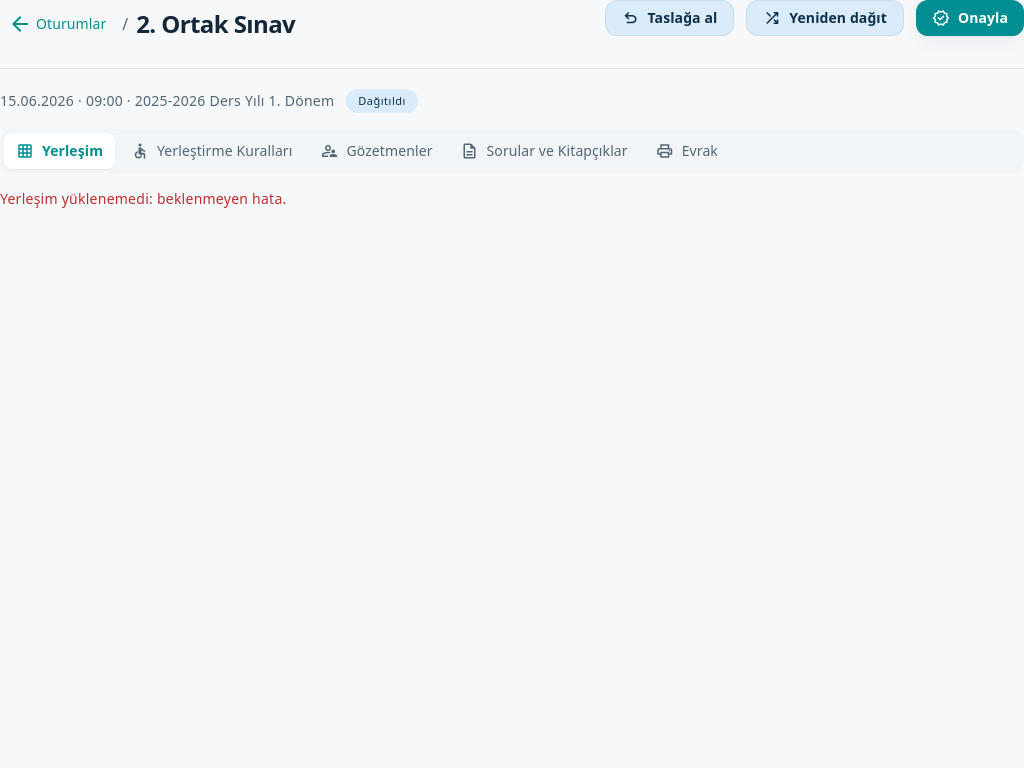
it: OturumDetayPage › DAĞITILDI: yeniden dağıtım ihlalli dönerse sonuç 'onaylanamaz' der
Click the button "Yeniden dağıt" at (825, 18), box [746,0,904,36]
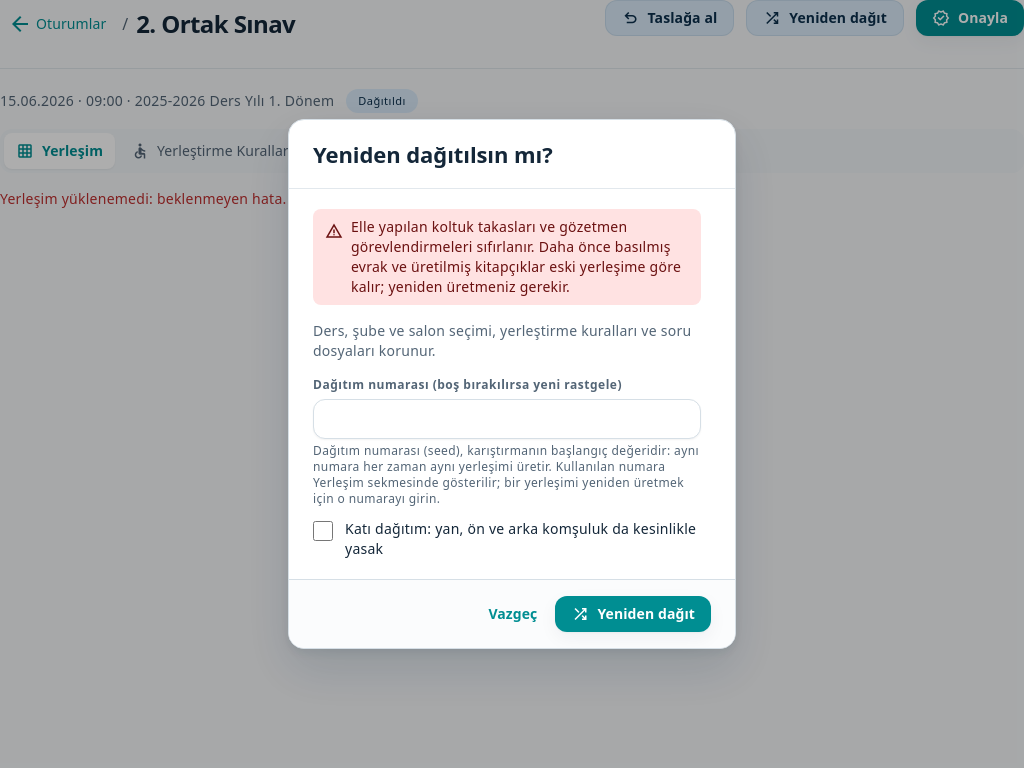
Click the button "Yeniden dağıt" at (633, 614), box [555,596,711,632]
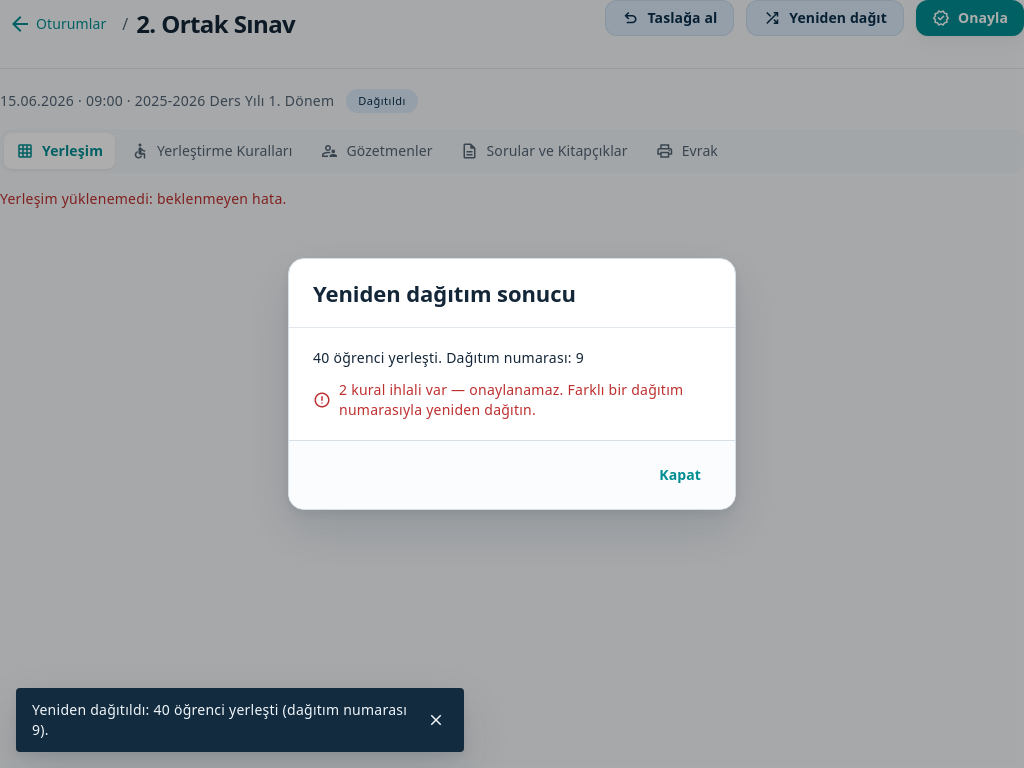
Check: the message that starts with "kural ihlali var — onaylanamaz." shows "2 kural ihlali var — onaylanamaz", box [313,380,701,420]
